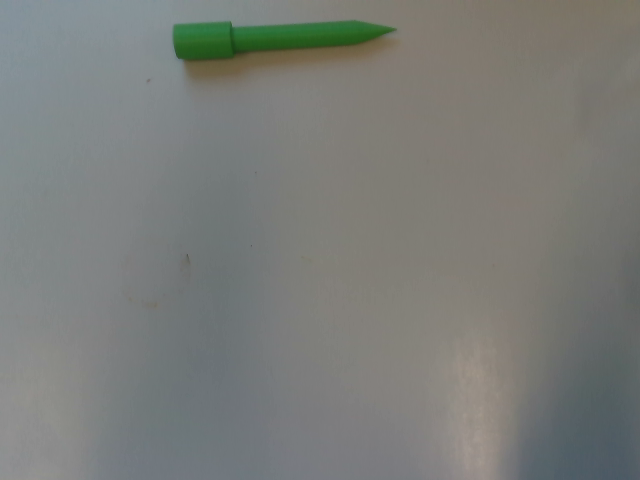Probe: (168, 15, 403, 64)
